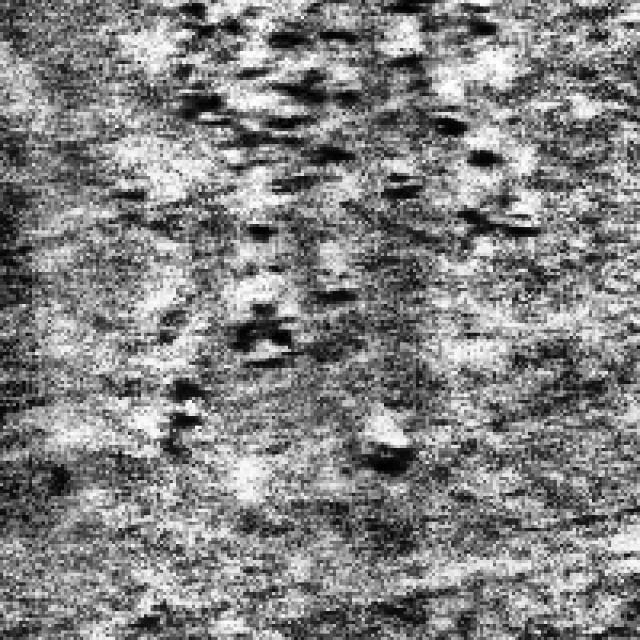Crazing: (150, 0, 500, 211), (144, 278, 419, 477)
